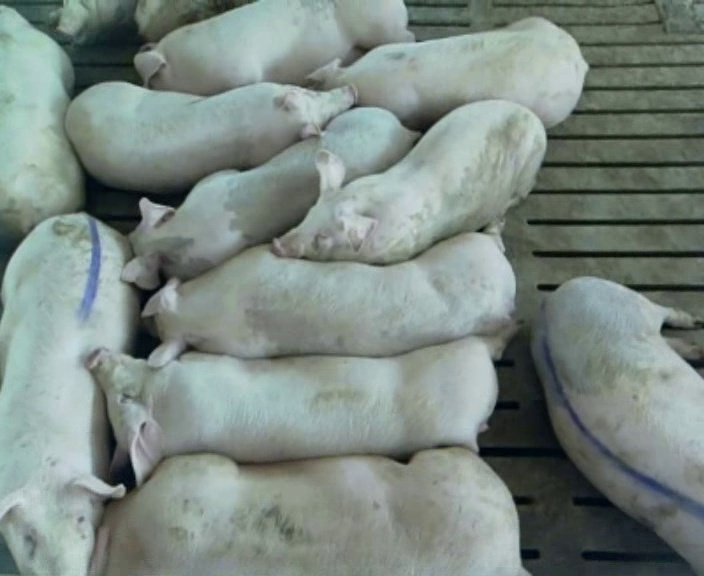pig: (88, 319, 521, 484), (143, 220, 514, 366), (92, 448, 525, 573), (122, 108, 418, 289), (532, 277, 703, 574), (0, 213, 138, 573), (272, 100, 544, 262), (65, 82, 355, 191), (306, 17, 587, 128), (134, 2, 413, 94)
